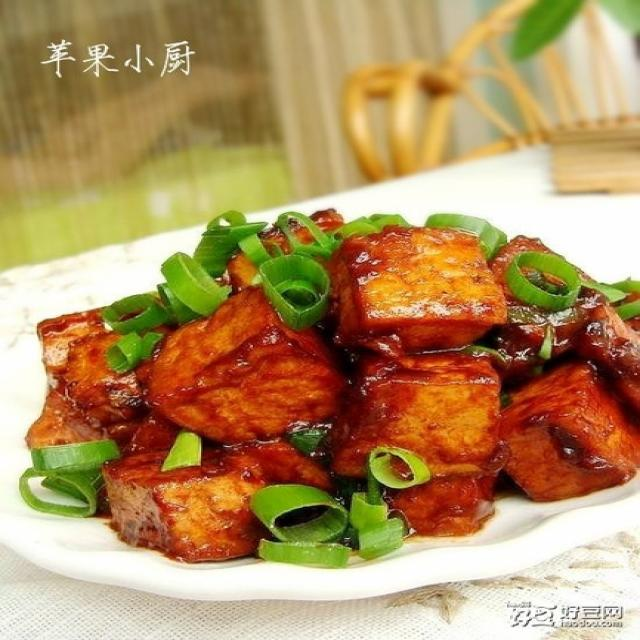豆腐料理: (6, 202, 637, 578)
